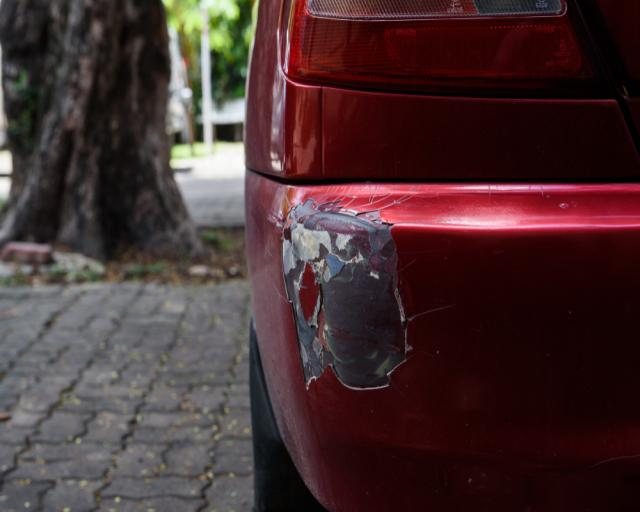scratch: (274, 190, 419, 392)
